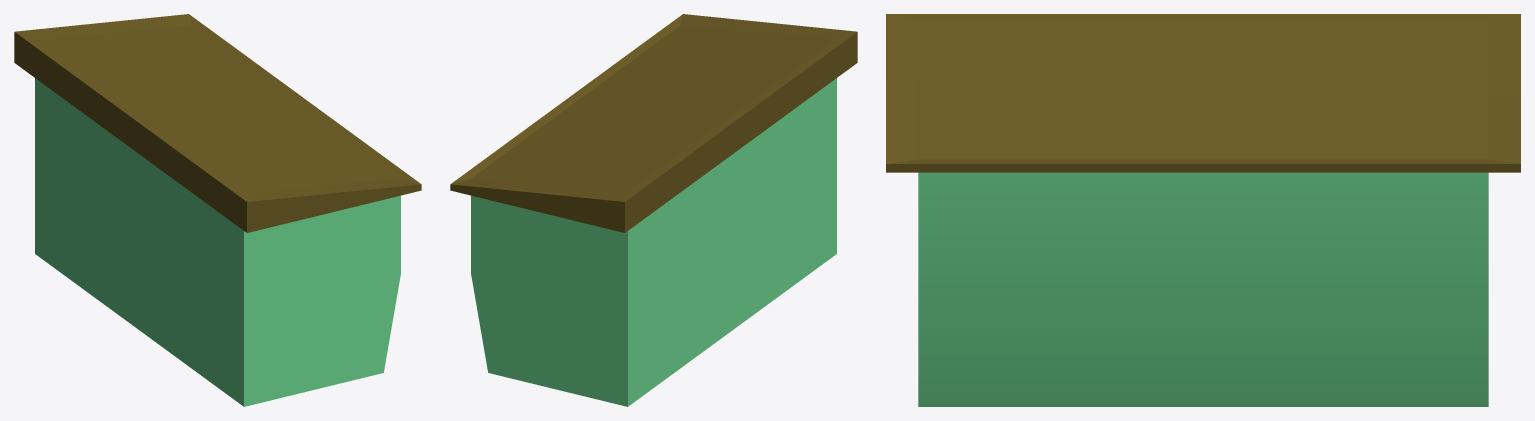
Rendered from dump.fbx.
3 renders of one model, left to right at view 1: azimuth 30°, elevation 25°; view 2: azimuth 150°, elevation 25°; view 3: azimuth 270°, elevation 25°, orthographic. The views are drawn at different scales.
Visible parts, largest first — view 1: dump; view 2: dump; view 3: dump.
Boxes of the visible parts, box(x1,y1,x2,y2) form: dump: box(14, 14, 421, 406); dump: box(450, 14, 857, 406); dump: box(886, 14, 1520, 406).
Size of the model in its own units: 0.7566 by 0.8933 by 1.75.
